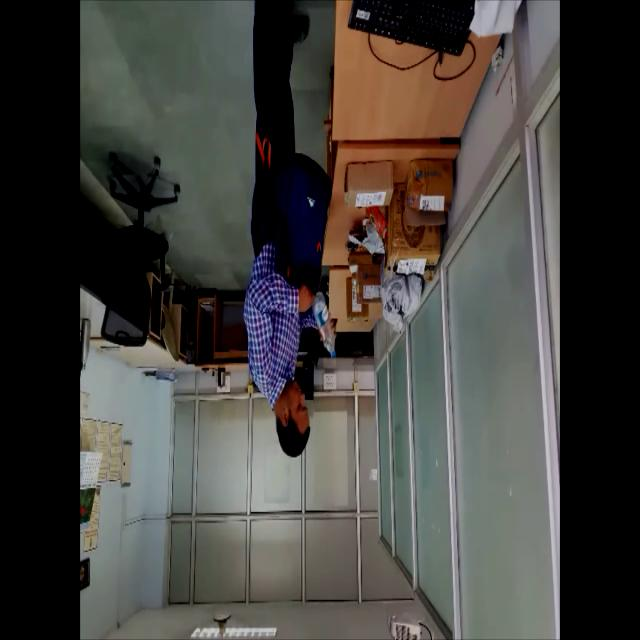shoplifting: (232, 0, 347, 465)
